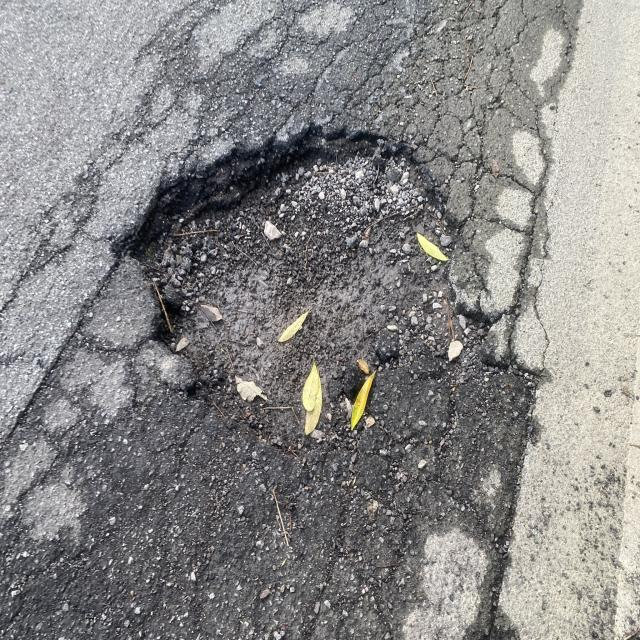Pothole: (87, 94, 496, 406)
